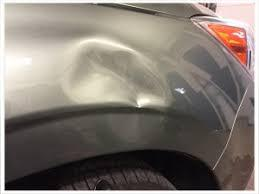fender-dent: (6, 4, 218, 181)
